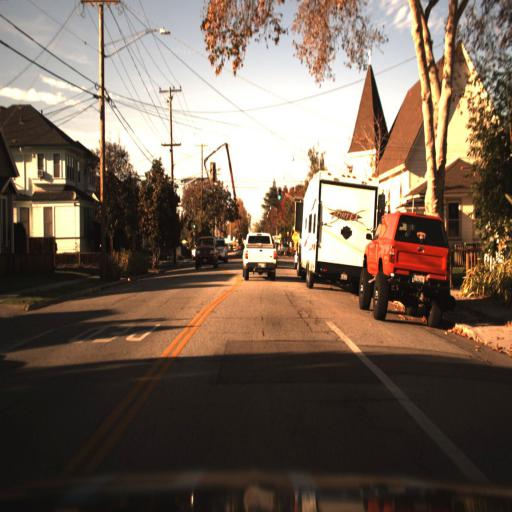car: (357, 210, 451, 324), (238, 230, 278, 284), (193, 234, 219, 270)
trafficLight-Green: (274, 182, 284, 206)
truck: (293, 166, 382, 292), (300, 162, 381, 288)
